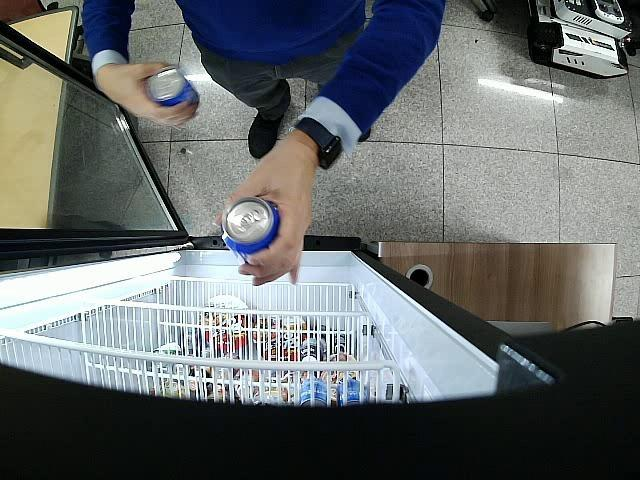13_pocariSweat: (222, 197, 280, 264), (148, 67, 200, 107)
